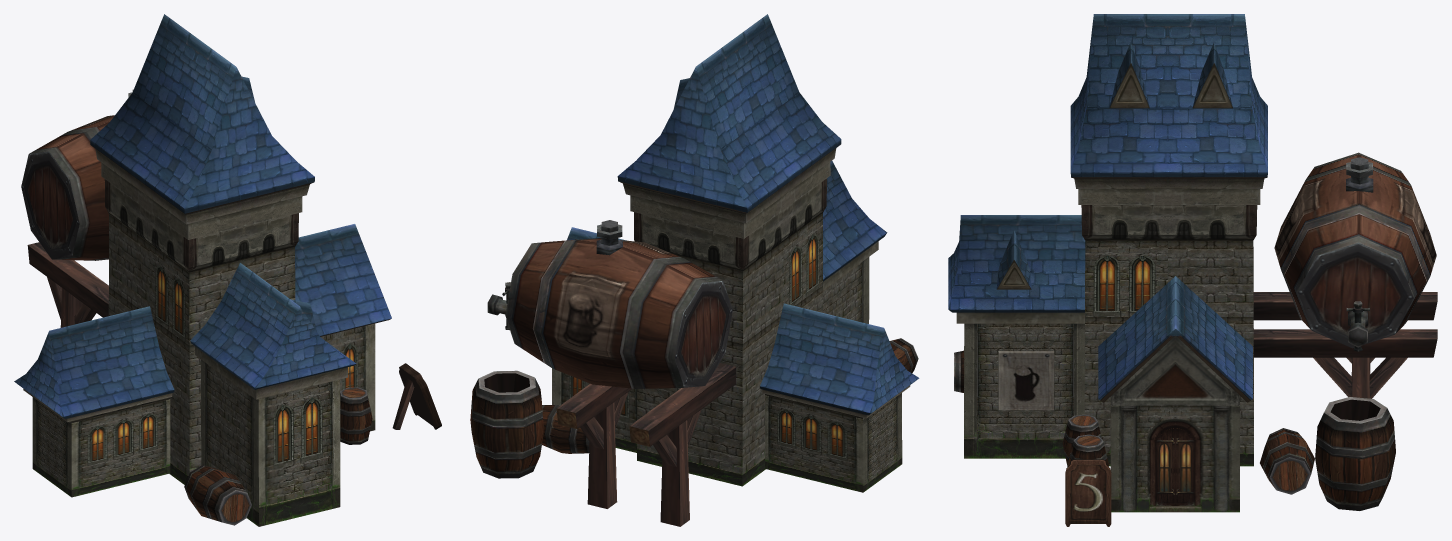
File: Tavern_Level03.FBX
3 renders of one model, left to right at view 1: azimuth 30°, elevation 25°; view 2: azimuth 150°, elevation 25°; view 3: azimuth 270°, elevation 25°, orthographic. The views are drawn at different scales.
Visible parts, largest first — view 1: Tavern_Level03, Tavern_Level03_A; view 2: Tavern_Level03, Tavern_Level03_A; view 3: Tavern_Level03, Tavern_Level03_A.
Part boxes in pixels (bbox=[...]): Tavern_Level03: bbox=[14, 14, 441, 526]; Tavern_Level03_A: bbox=[21, 89, 133, 260]; Tavern_Level03: bbox=[470, 14, 919, 526]; Tavern_Level03_A: bbox=[487, 220, 732, 388]; Tavern_Level03: bbox=[948, 14, 1437, 526]; Tavern_Level03_A: bbox=[1274, 152, 1436, 351].
Size of the model in its own units: 473 by 517 by 538.
